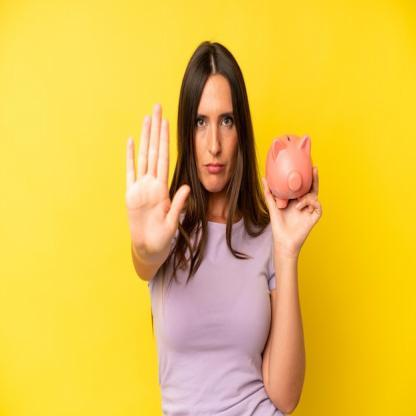stop: (123, 100, 194, 265)
